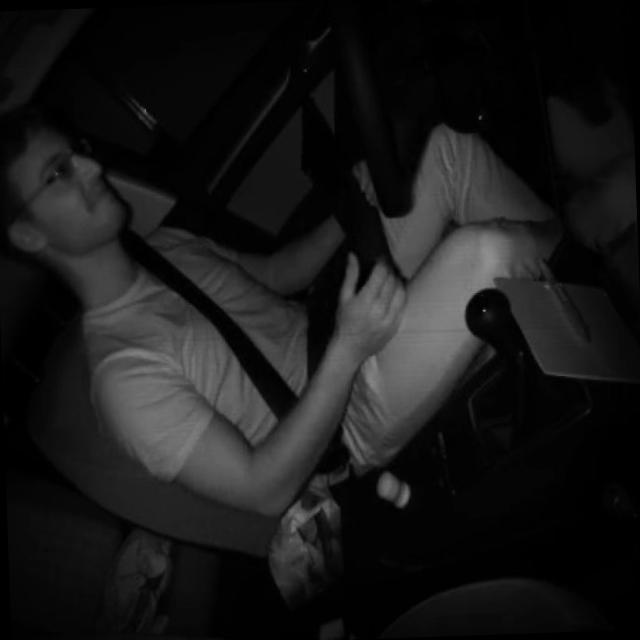pen: (536, 247, 594, 351)
